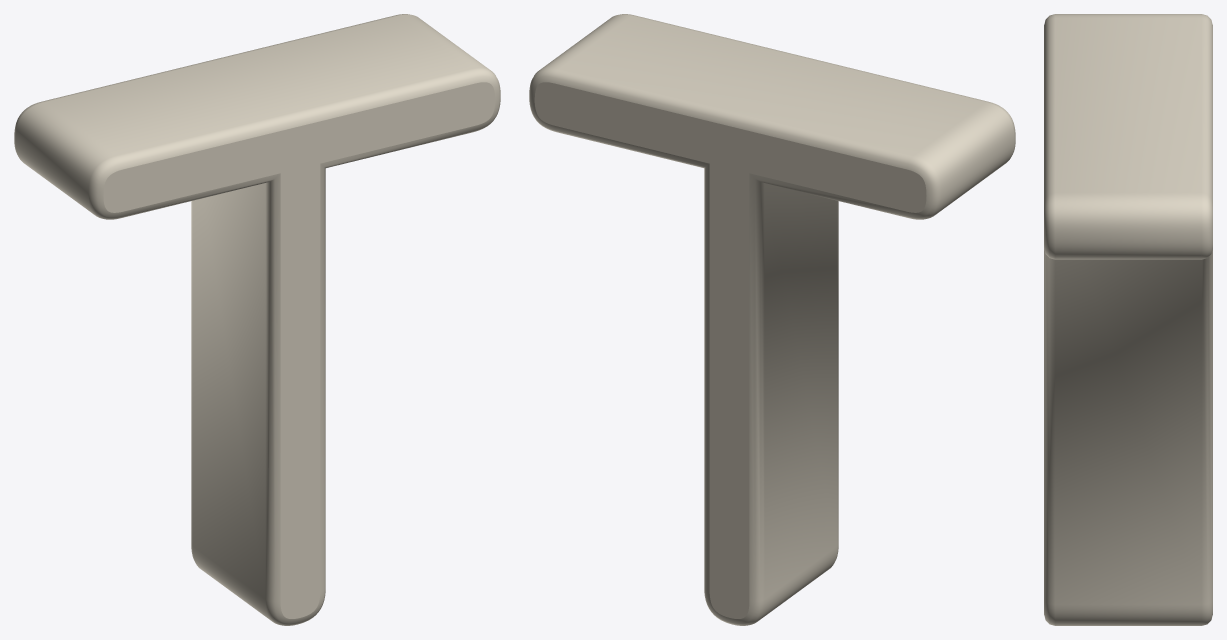
File: letter_t.glb
3 renders of one model, left to right at view 1: azimuth 30°, elevation 25°; view 2: azimuth 150°, elevation 25°; view 3: azimuth 270°, elevation 25°, orthographic.
Visible parts, largest first — view 1: color_body; view 2: color_body; view 3: color_body.
Boxes of the visible parts, left/top/right/bottom form: color_body: left=14, top=14, right=500, bottom=625; color_body: left=529, top=14, right=1015, bottom=625; color_body: left=1044, top=14, right=1212, bottom=625.
Bounding box in the file's own units: 0.6857 × 0.816 × 0.242.
